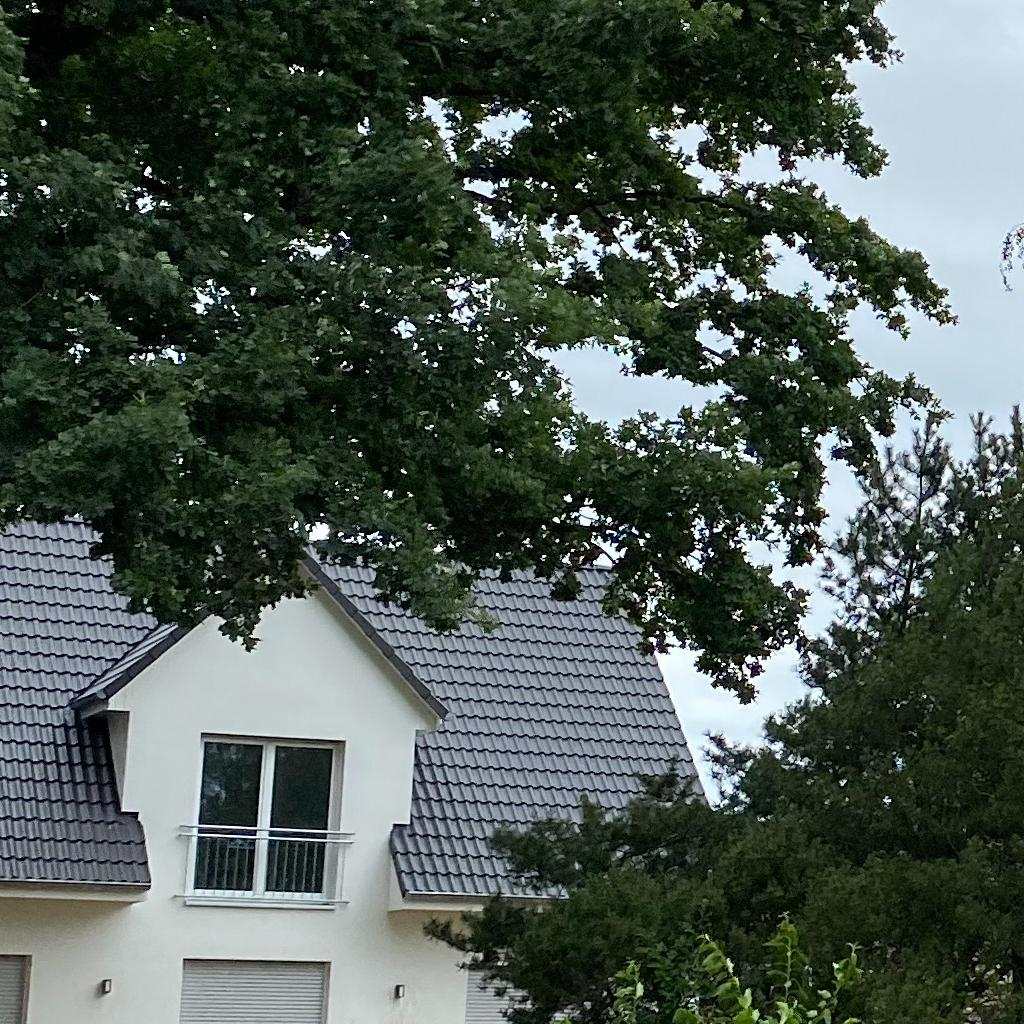tree: (1, 1, 961, 706), (419, 401, 1023, 1023)
